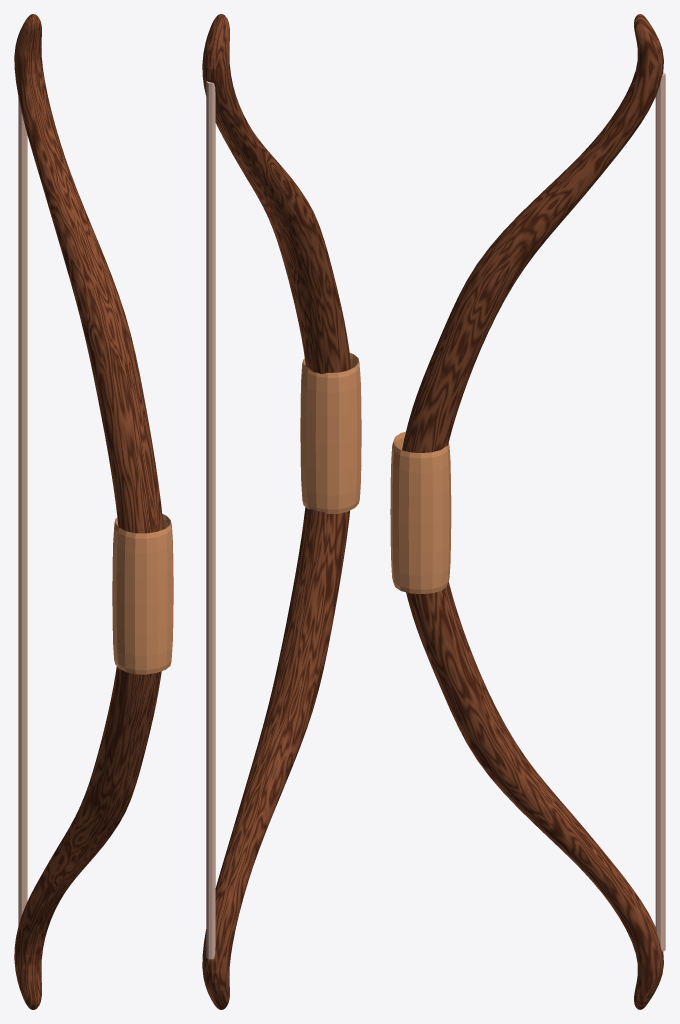
File: bow.fbx
3 renders of one model, left to right at view 1: azimuth 30°, elevation 25°; view 2: azimuth 150°, elevation 25°; view 3: azimuth 270°, elevation 25°, orthographic.
Visible parts, largest first — view 1: Cube, Cube.001, Cylinder; view 2: Cube, Cylinder, Cube.001; view 3: Cube, Cylinder, Cube.001.
Boxes of the visible parts, x1=… form: Cube: x1=14, y1=14, x2=163, y2=1009; Cube.001: x1=112, y1=514, x2=173, y2=674; Cylinder: x1=18, y1=97, x2=27, y2=925; Cube: x1=202, y1=14, x2=351, y2=1009; Cylinder: x1=206, y1=81, x2=215, y2=959; Cube.001: x1=300, y1=353, x2=361, y2=513; Cube: x1=402, y1=14, x2=663, y2=1009; Cylinder: x1=655, y1=72, x2=665, y2=951; Cube.001: x1=390, y1=431, x2=451, y2=593.
Size of the model in its own units: 10.7 by 193 by 48.42.
Materials: 3 (1 with a texture image).
